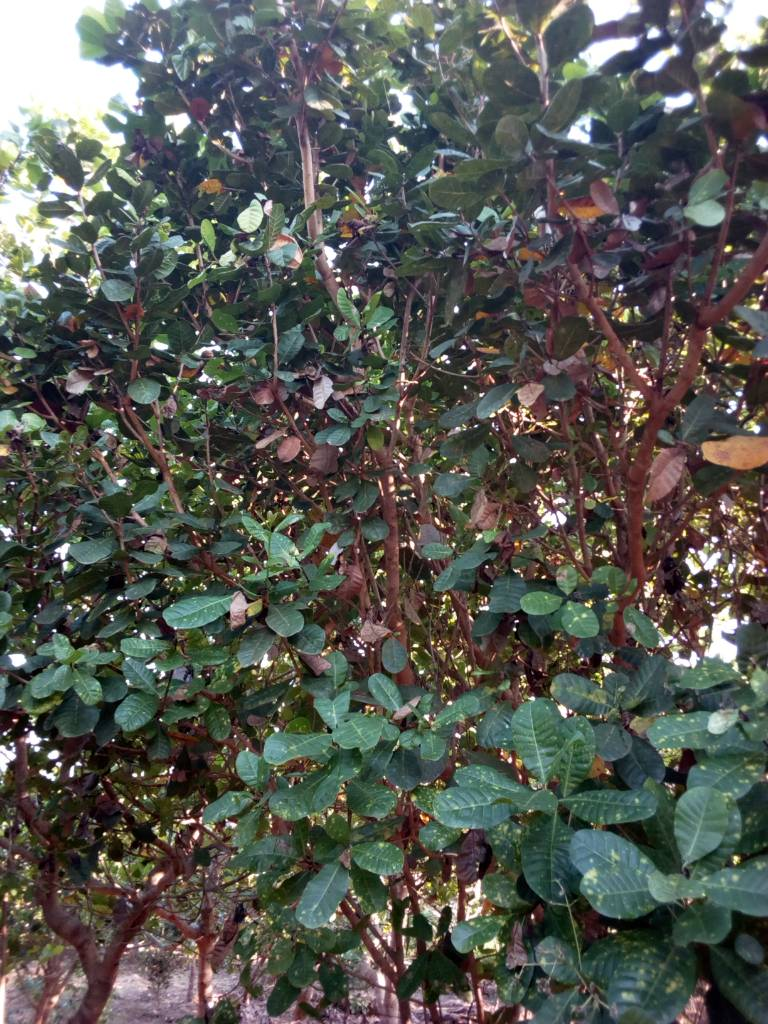Alternariose: (605, 935, 694, 1017), (516, 694, 558, 786), (580, 867, 657, 917), (340, 838, 408, 875)
